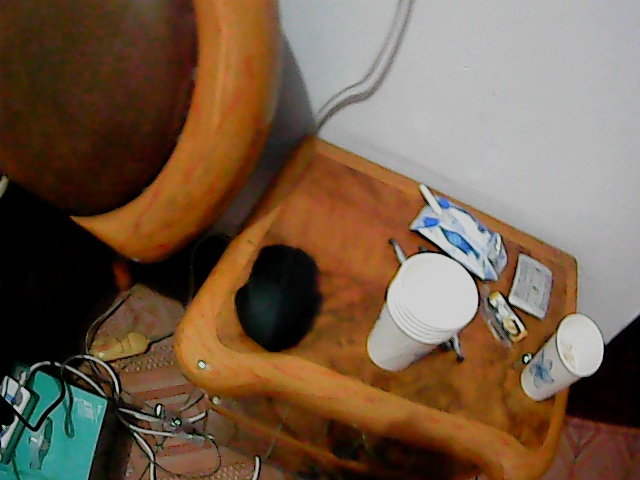cup: (368, 246, 481, 375)
mouse: (237, 236, 323, 356)
